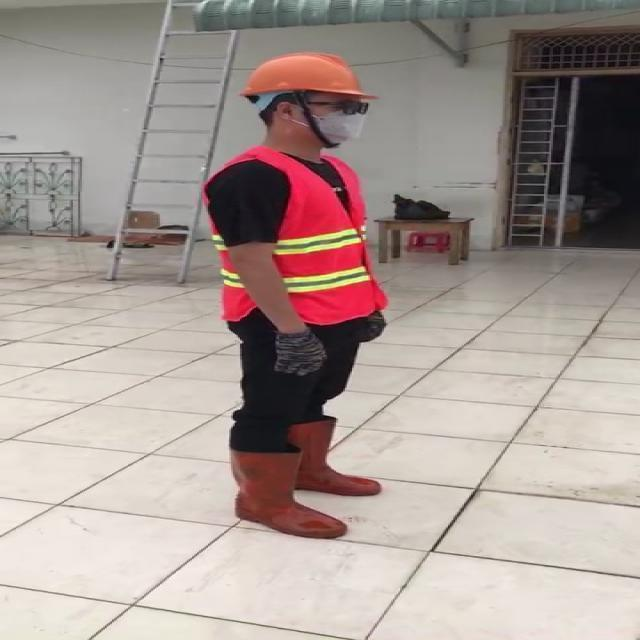gloves: (274, 324, 328, 375)
goggles: (307, 99, 371, 116)
helmet: (234, 49, 381, 104)
safety_vest: (213, 154, 380, 326)
